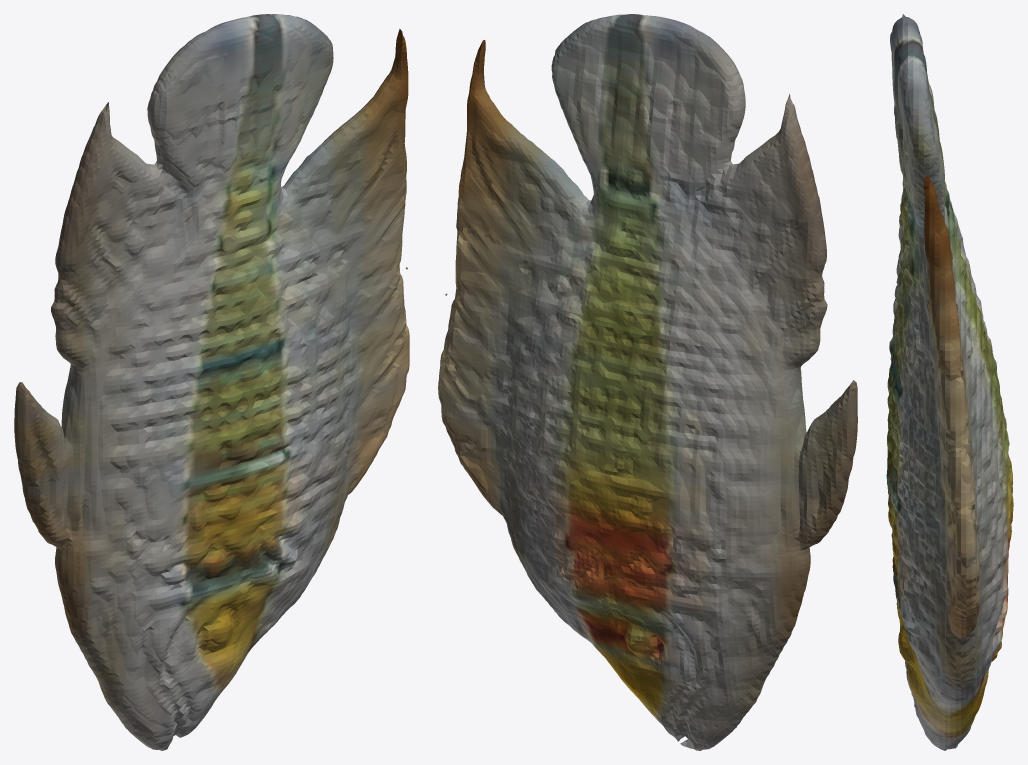
Rendered from amphilophus-citrinellus.glb.
3 views of the same model, side by side, from view 1: azimuth 30°, elevation 25°; view 2: azimuth 150°, elevation 25°; view 3: azimuth 270°, elevation 25° (orthographic). The views are drawn at different scales.
Visible parts, largest first — view 1: world; view 2: world; view 3: world.
Part boxes in pixels (x1=…): world: x1=14, y1=14, x2=409, y2=750; world: x1=438, y1=14, x2=857, y2=750; world: x1=886, y1=14, x2=1013, y2=750.
Size of the model in its own units: 0.6287 by 1.06 by 0.1639.
